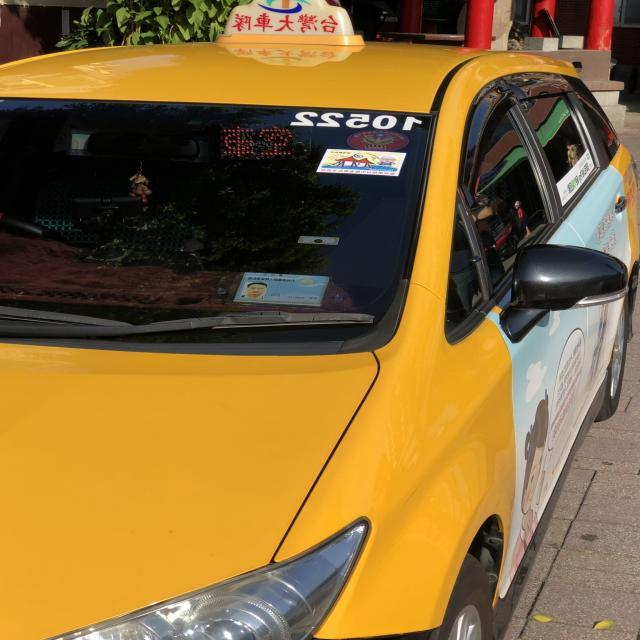taxi: (2, 29, 637, 640)
